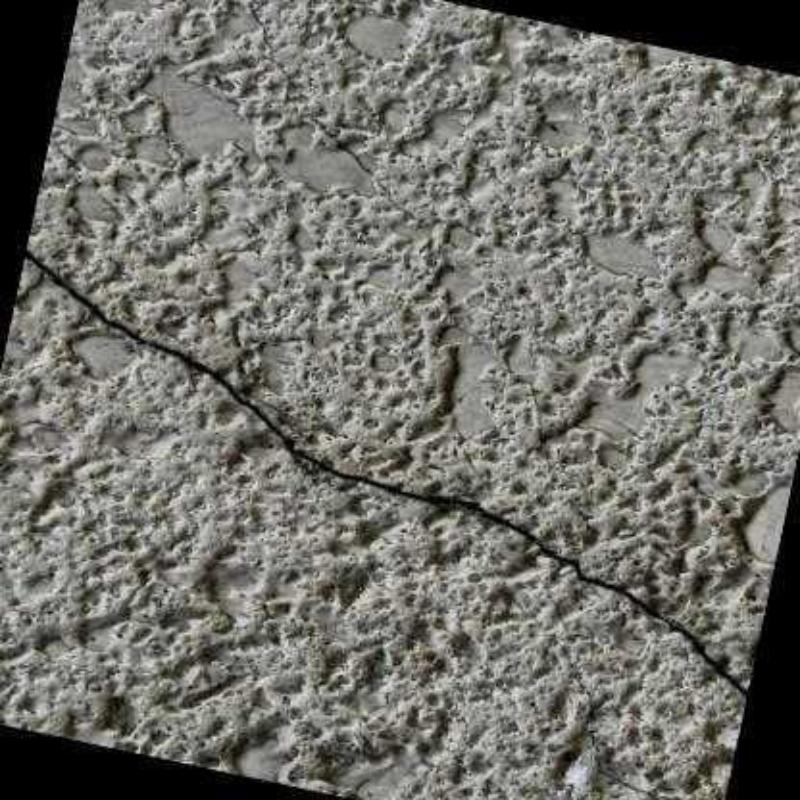crack: (21, 247, 748, 702)
